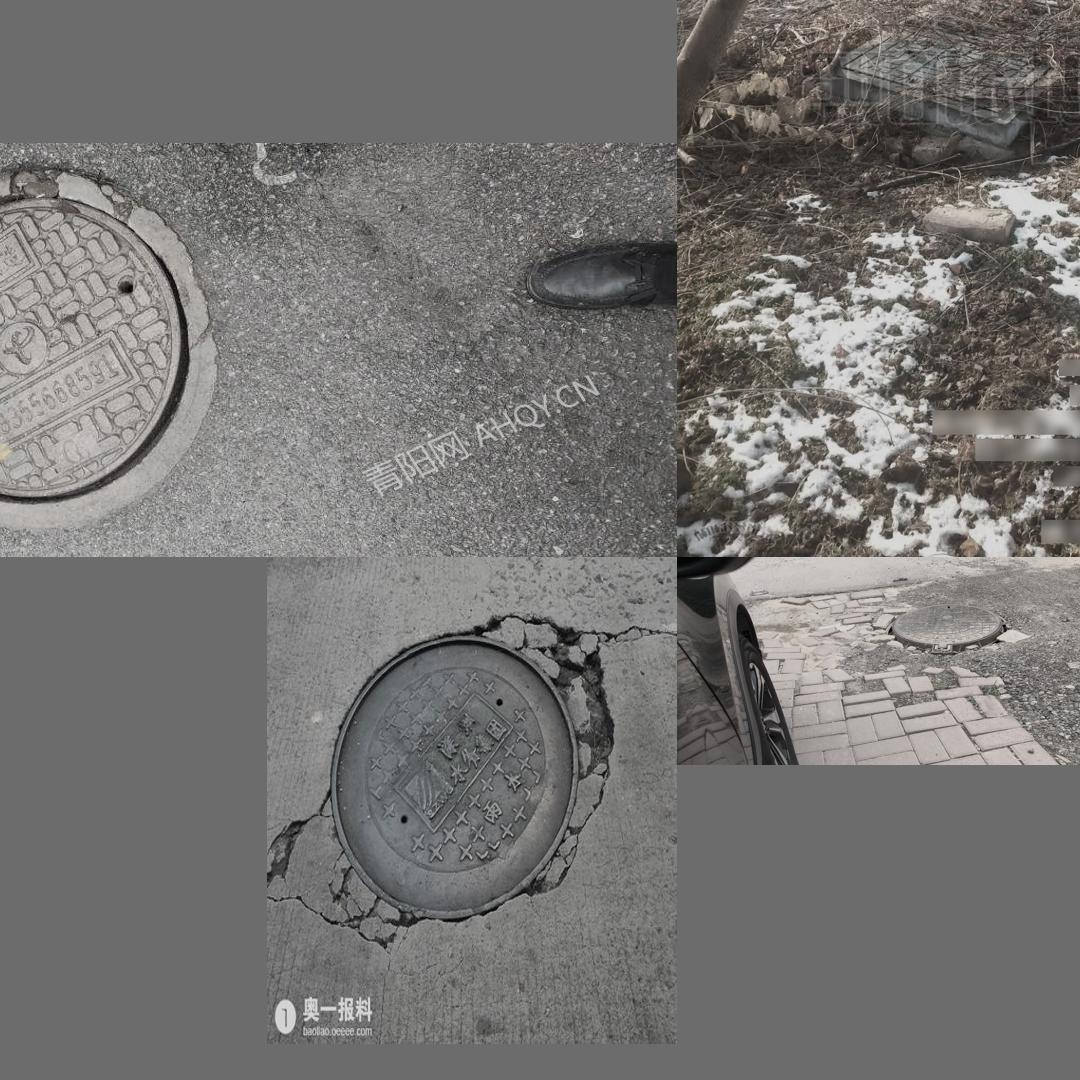circle: (275, 601, 620, 947), (0, 166, 240, 527), (815, 0, 1080, 154), (846, 589, 1040, 672)
